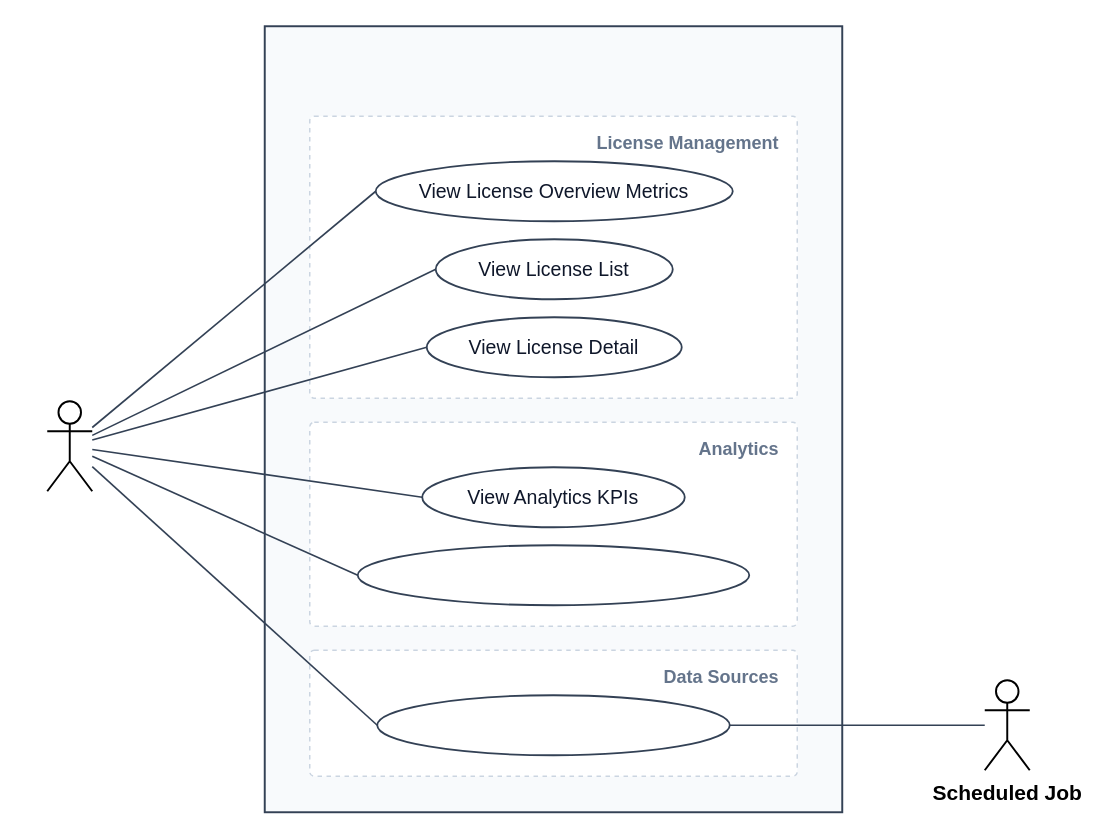
This 1109x840 diagram has some shape labels left out. The box of each missing label's shape, as (x1, y1, x2, y2) in pixels:
License Management System: (263, 25, 843, 813)
Manager: (46, 400, 93, 492)
Upload and Sync License Data: (376, 694, 730, 755)
View Application Usage Breakdown: (356, 544, 749, 605)
